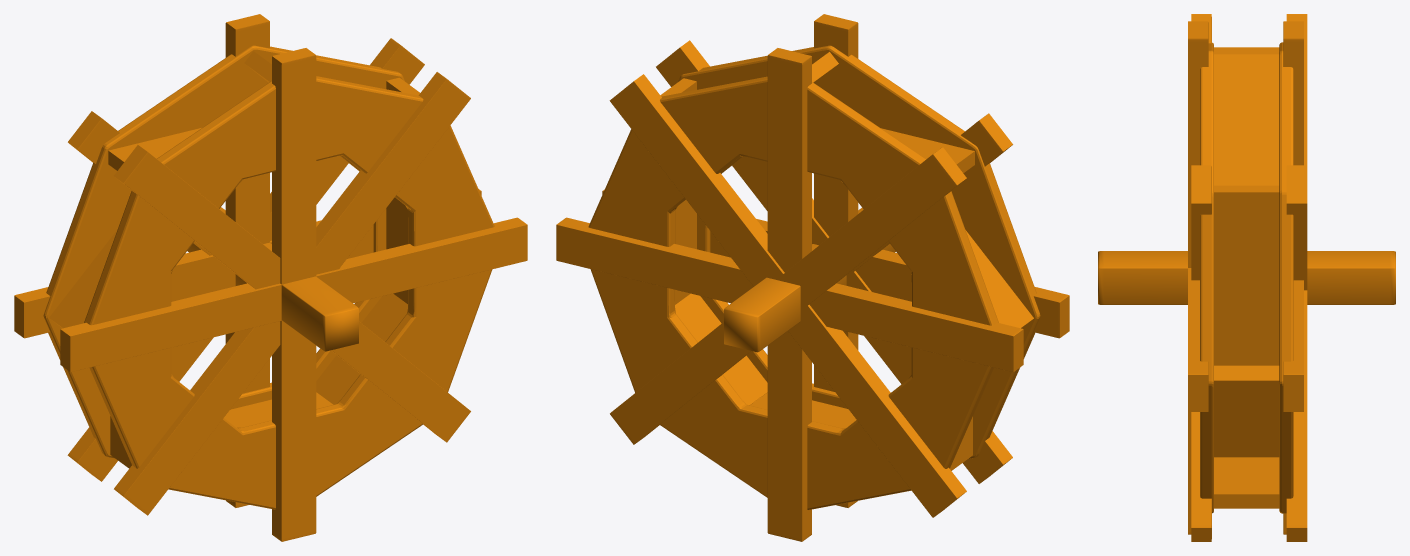
Rendered from waterwheelfbx (1).fbx.
3 renders of one model, left to right at view 1: azimuth 30°, elevation 25°; view 2: azimuth 150°, elevation 25°; view 3: azimuth 270°, elevation 25°, orthographic. The views are drawn at different scales.
Visible parts, largest first — view 1: waterwheel, Plank; view 2: waterwheel, Plank; view 3: waterwheel, Plank.
Boxes of the visible parts, x1=… form: waterwheel: x1=14, y1=14, x2=527, y2=541; Plank: x1=49, y1=51, x2=419, y2=468; waterwheel: x1=556, y1=14, x2=1069, y2=541; Plank: x1=660, y1=52, x2=1033, y2=470; waterwheel: x1=1098, y1=14, x2=1395, y2=541; Plank: x1=1214, y1=47, x2=1279, y2=508.
Size of the model in its own units: 1383 by 1383 by 753.
